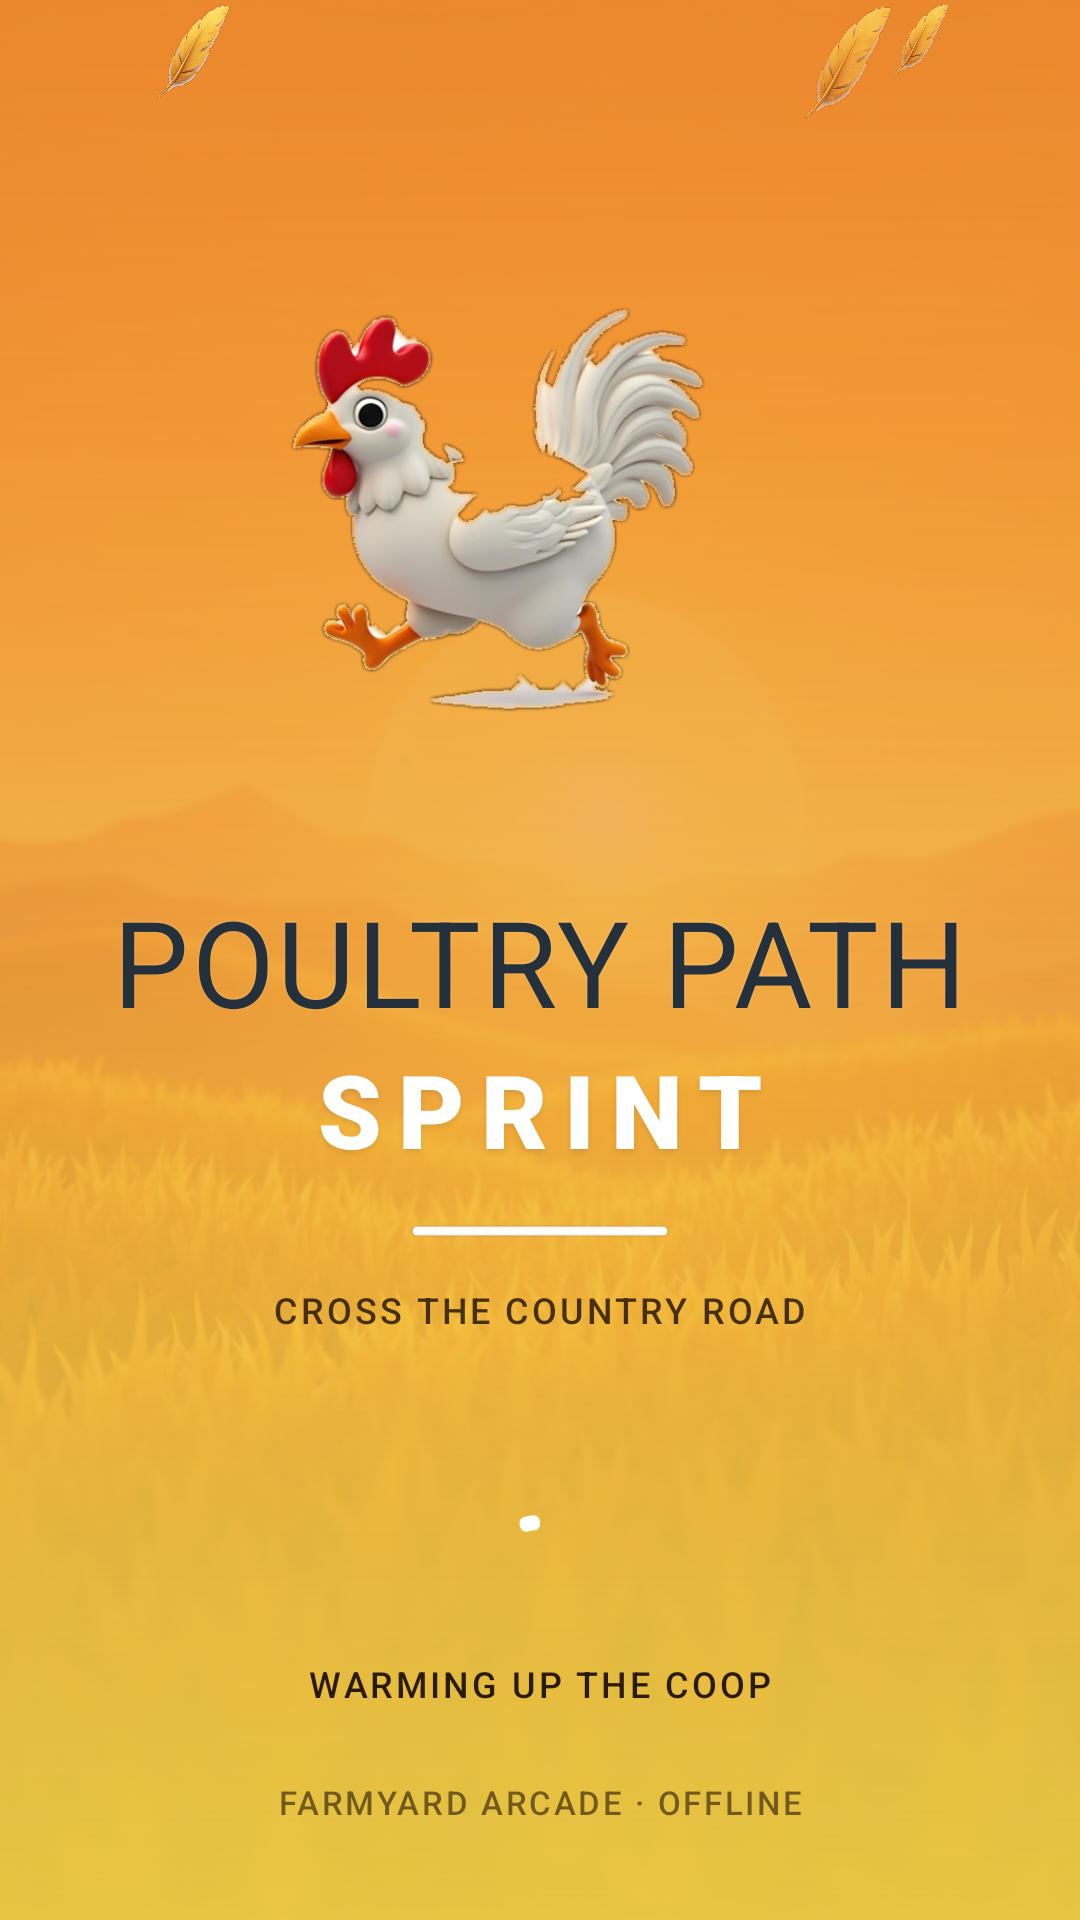

Where icons sit on this 1080x1920 app screen, as (x1, y1, x2, y2):
sprite feather: (158, 4, 230, 97), (894, 4, 949, 75), (804, 6, 892, 118)
